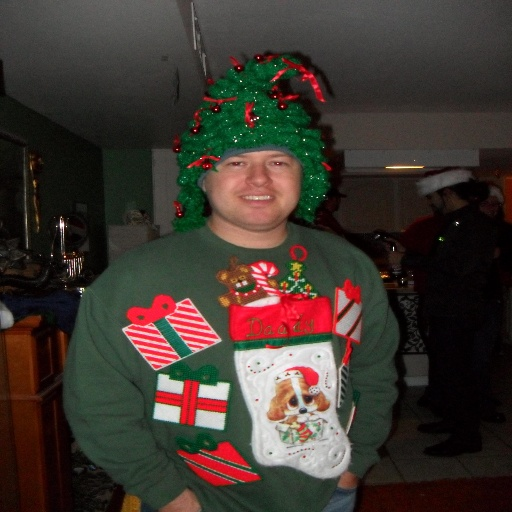hand: (157, 486, 202, 511), (336, 470, 361, 486)
